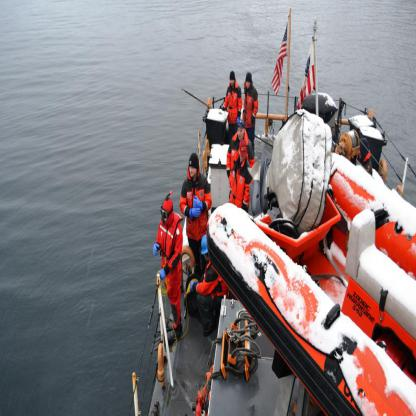face: (162, 207, 169, 224), (190, 164, 198, 177), (238, 126, 245, 140), (241, 151, 247, 163), (246, 80, 251, 90), (230, 78, 235, 87)
